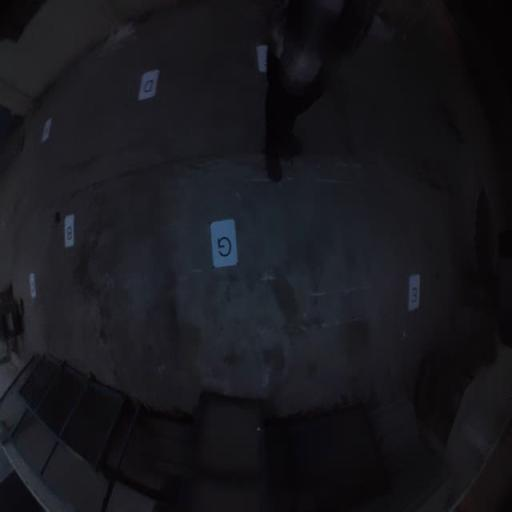A: (41, 117, 52, 143)
B: (65, 214, 75, 248)
C: (29, 273, 37, 298)
D: (138, 70, 158, 100)
E: (408, 273, 421, 312)
G: (211, 218, 238, 268)
